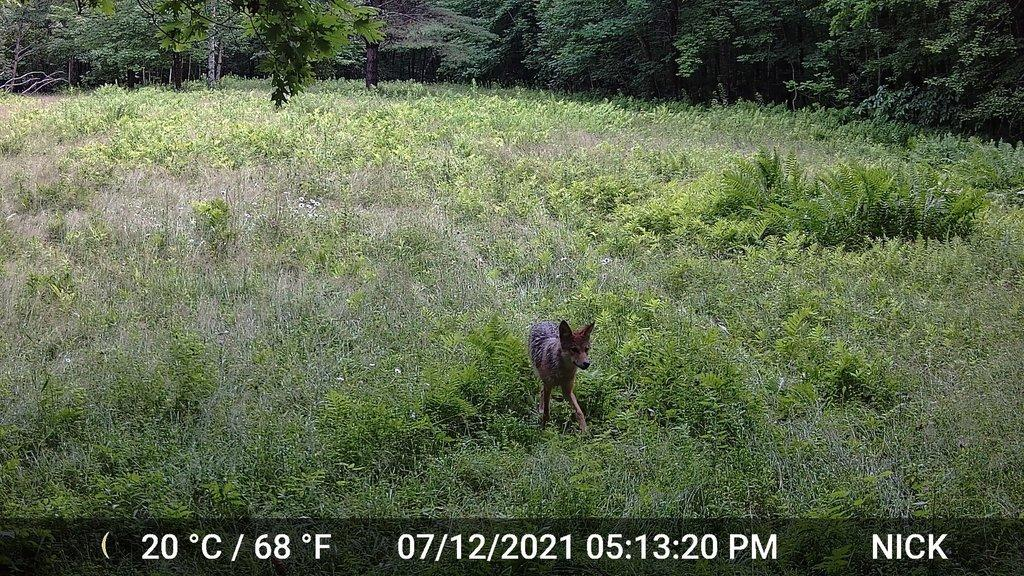Coyote: (527, 314, 603, 439)
